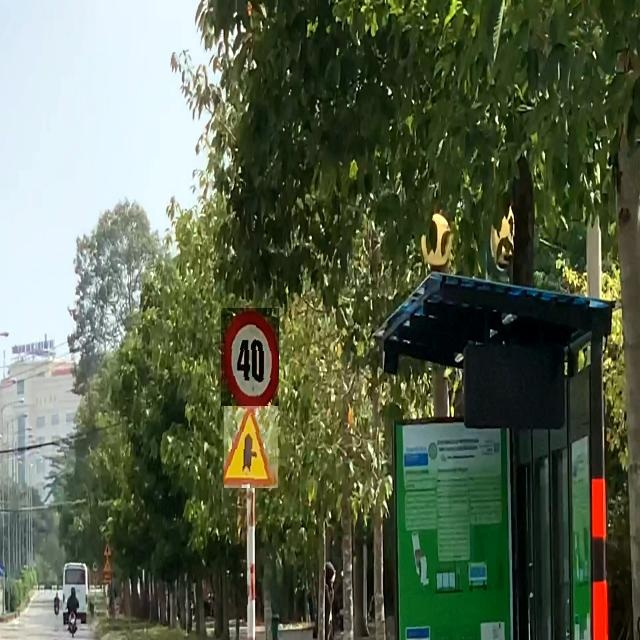bien_nguy_hiem: (221, 308, 279, 406), (224, 406, 278, 488)
